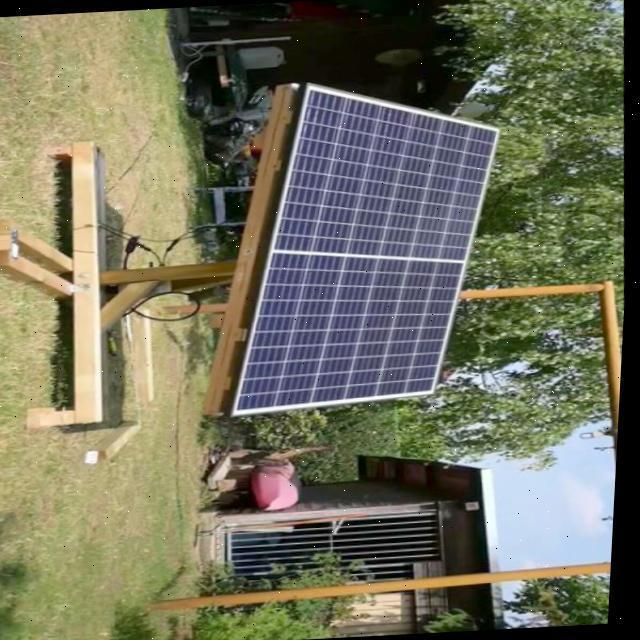Normal Solar Panel: (220, 73, 516, 414)
